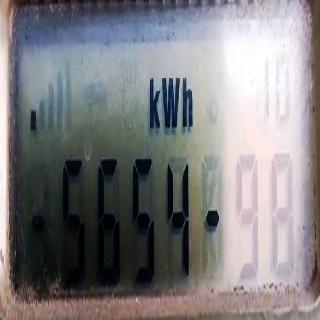-: (31, 208, 46, 236), (205, 205, 220, 232), (30, 106, 36, 134)
4: (165, 152, 192, 282)
5: (60, 149, 87, 291), (130, 152, 157, 290)
6: (95, 152, 122, 292)
8: (268, 141, 300, 290)
9: (234, 142, 262, 287)
